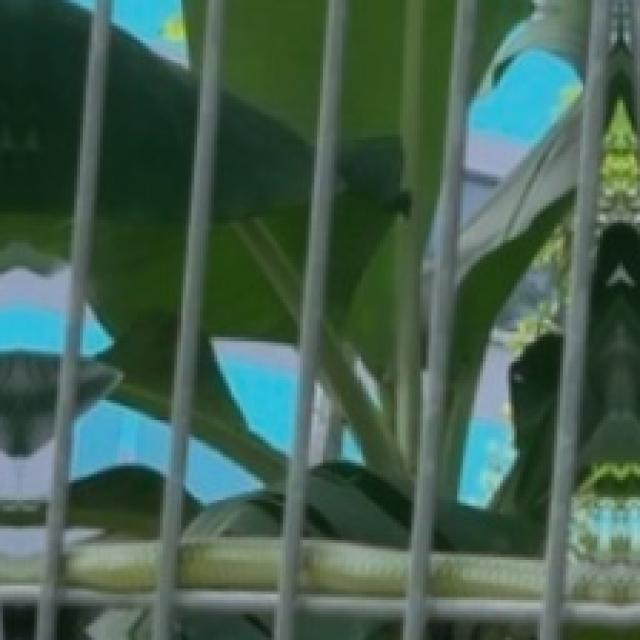paradise tree snake: (300, 540, 403, 594), (180, 537, 277, 589), (431, 551, 540, 597)
